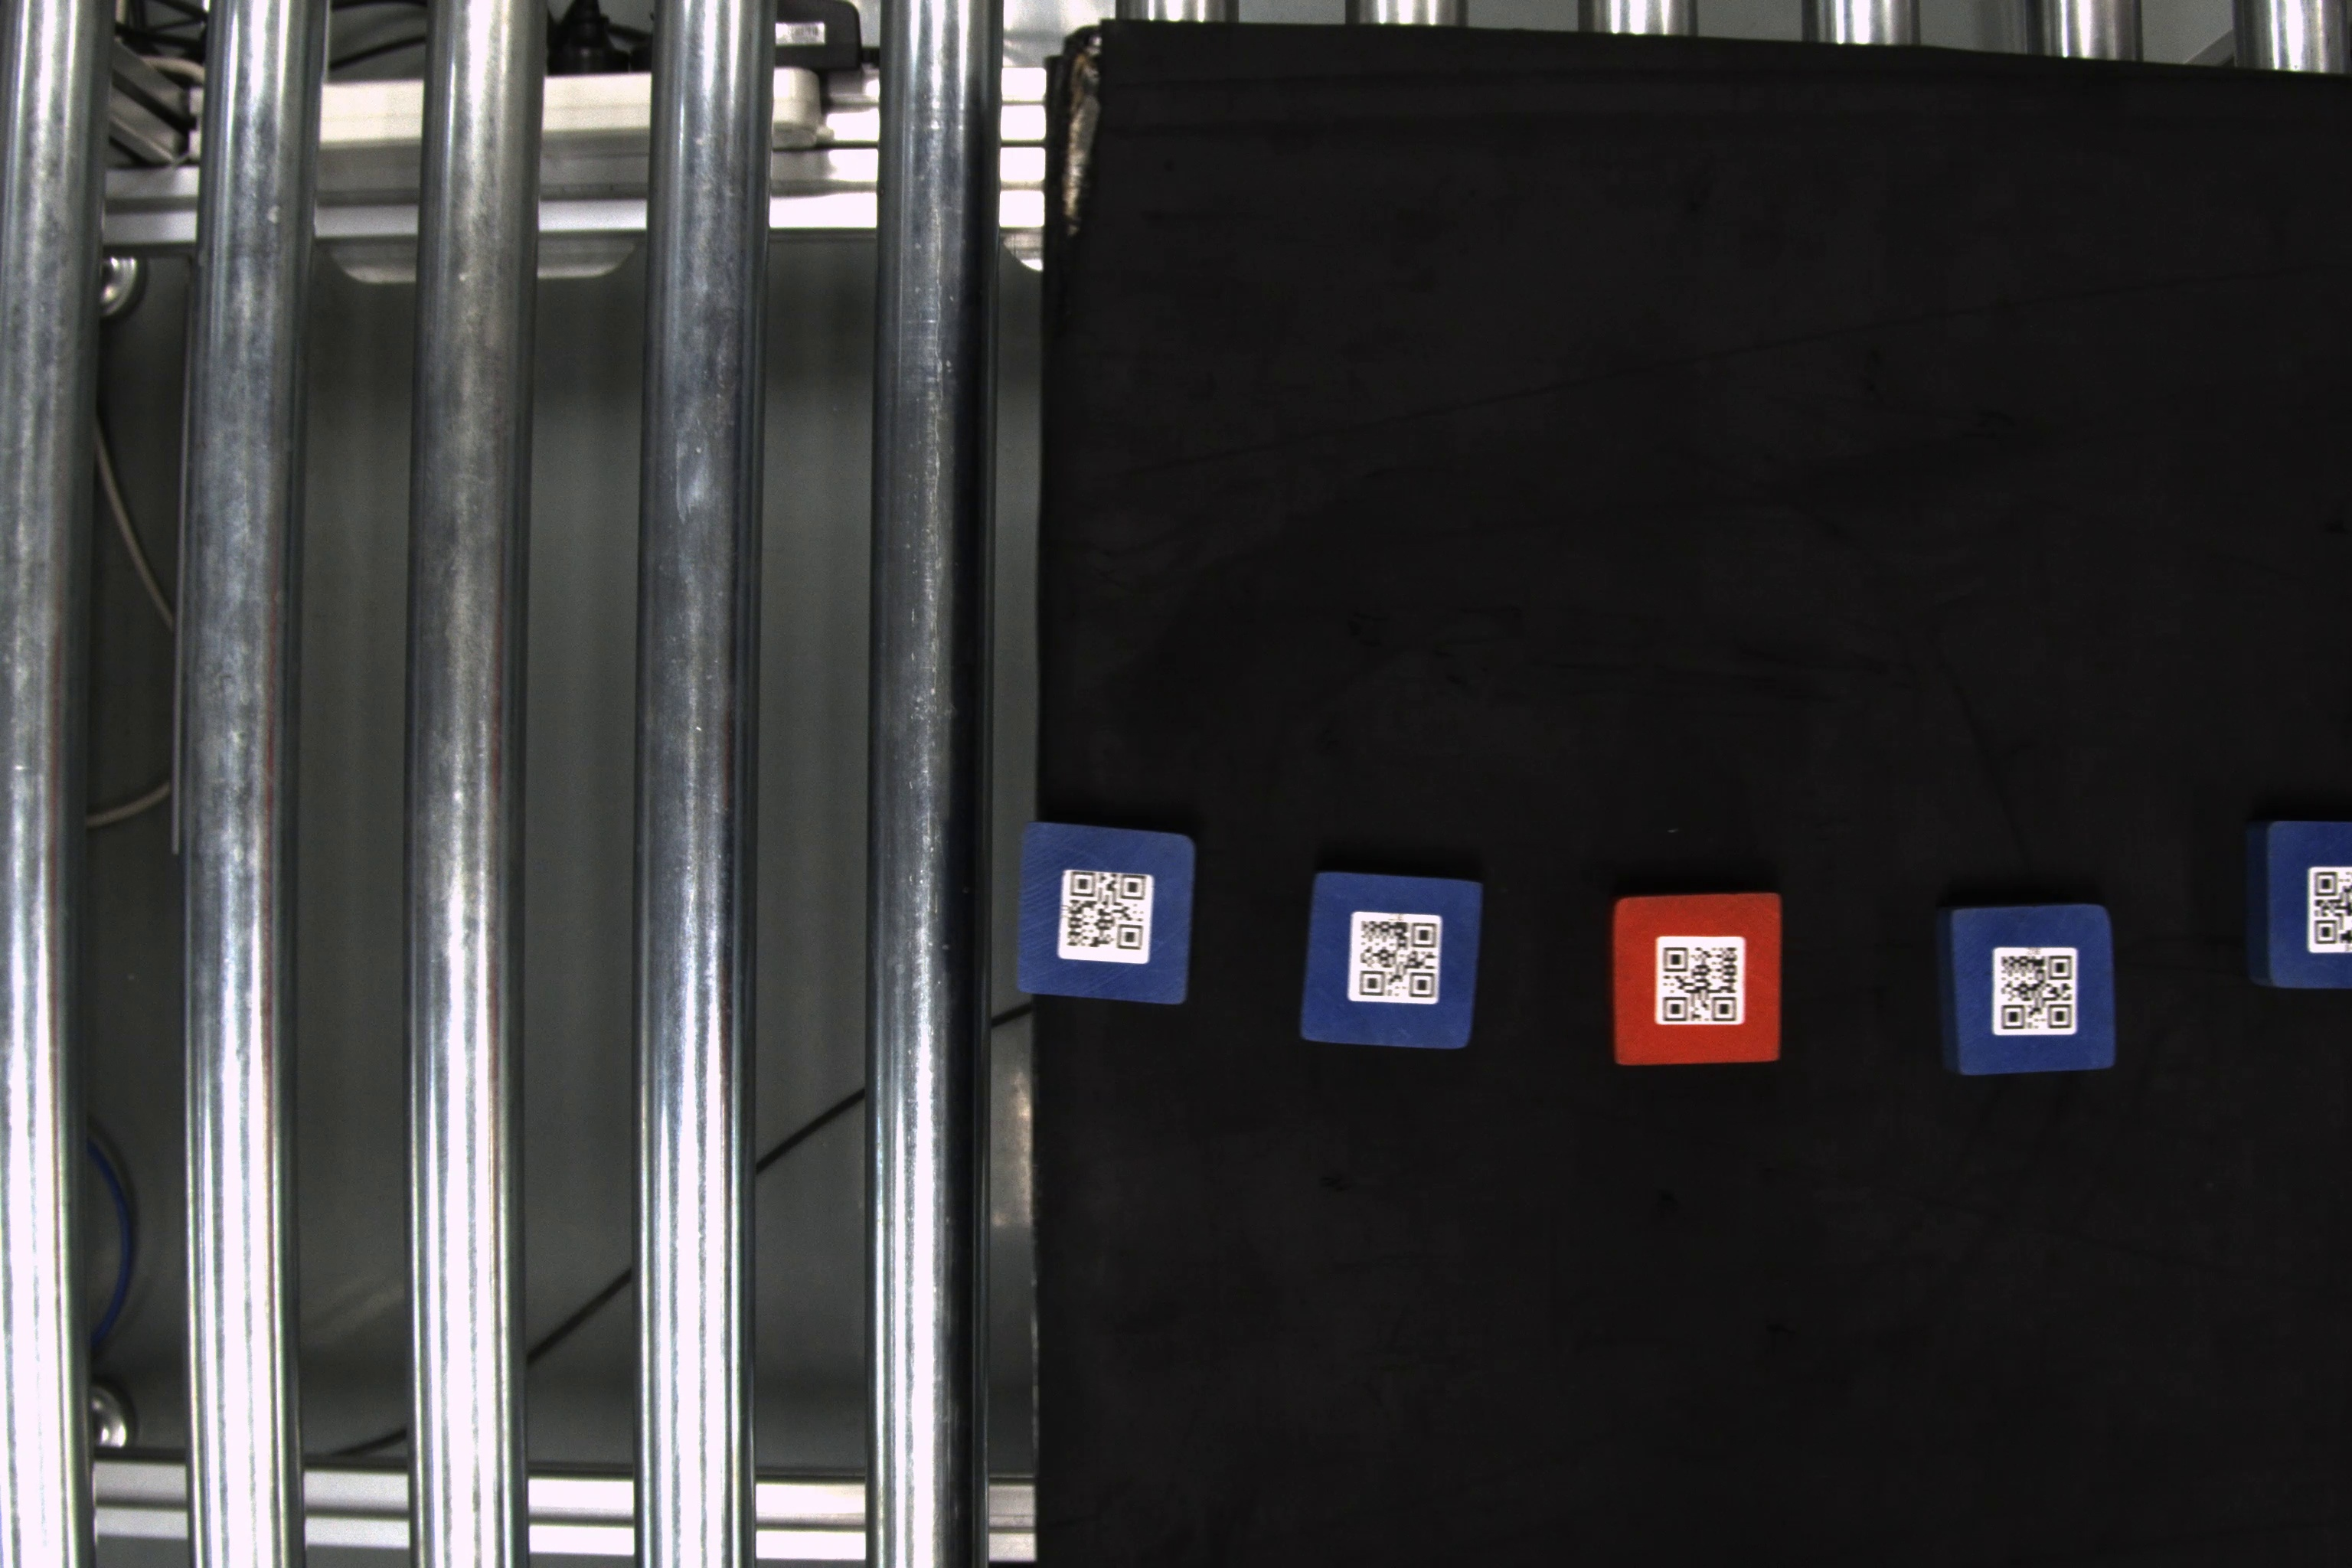wood: (1297, 871, 1487, 1055), (1013, 821, 1197, 1006), (1935, 901, 2121, 1083), (1605, 889, 1785, 1073), (2242, 817, 2348, 1003)
